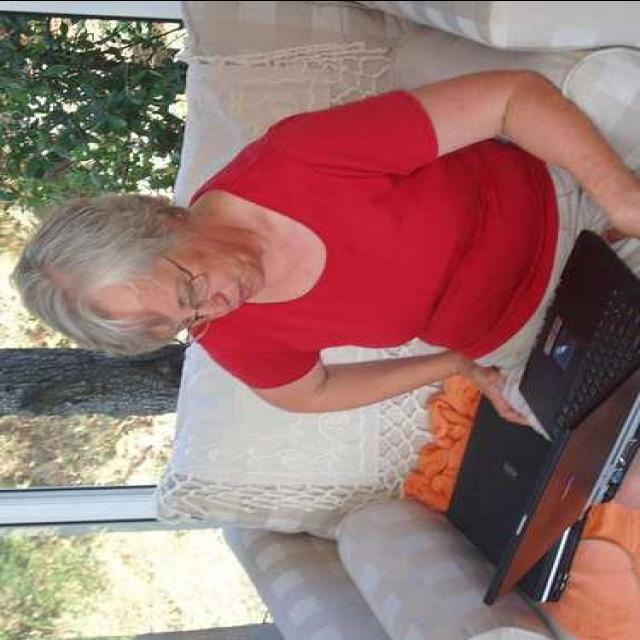laptop: (479, 268, 640, 606)
